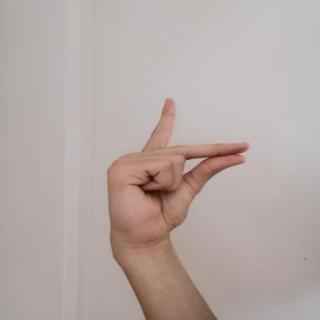TAA: (98, 93, 258, 254)
